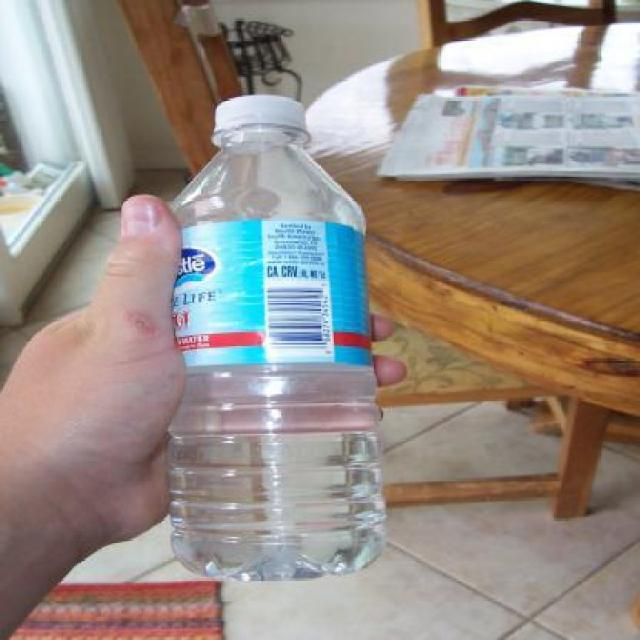bottle: (158, 82, 387, 584)
